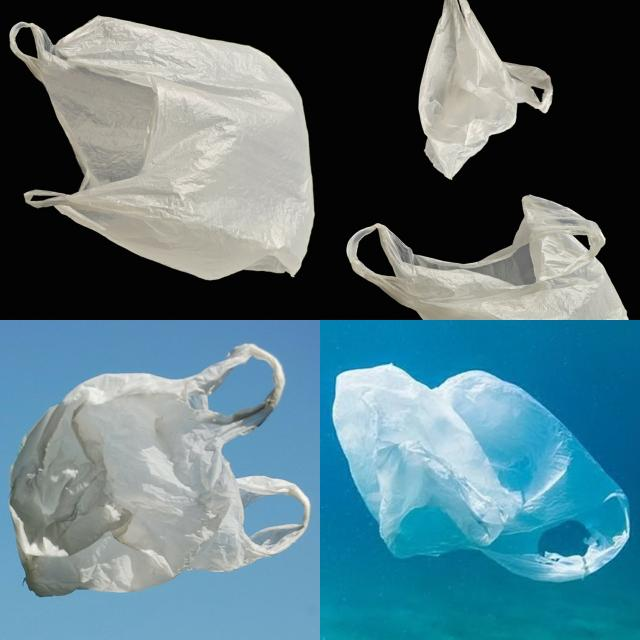Single-layer Plastic: (10, 16, 314, 279), (9, 344, 310, 596), (332, 364, 630, 582), (348, 195, 628, 319), (419, 0, 552, 179)
